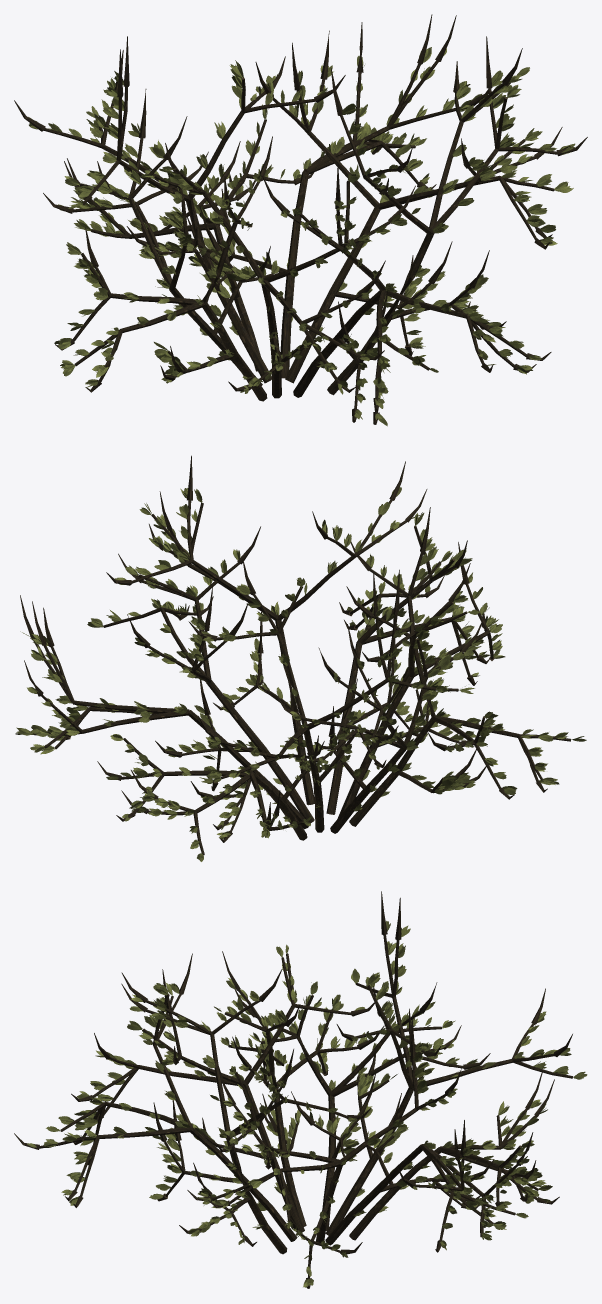
Rendered from thorn_scrub_v02.fbx.
The picture shows the model from 3 angles, top to bottom: view 1: azimuth 30°, elevation 25°; view 2: azimuth 150°, elevation 25°; view 3: azimuth 270°, elevation 25°; orthographic projection. The views are drawn at different scales.
Visible parts, largest first — view 1: thorn_scrub_v02; view 2: thorn_scrub_v02; view 3: thorn_scrub_v02.
Part boxes in pixels (x1,y1,x2,y2): thorn_scrub_v02: [14, 14, 587, 426]; thorn_scrub_v02: [15, 455, 586, 861]; thorn_scrub_v02: [14, 891, 587, 1288].
Size of the model in its own units: 340 by 215 by 377.
Materials: 2 (2 with a texture image).
